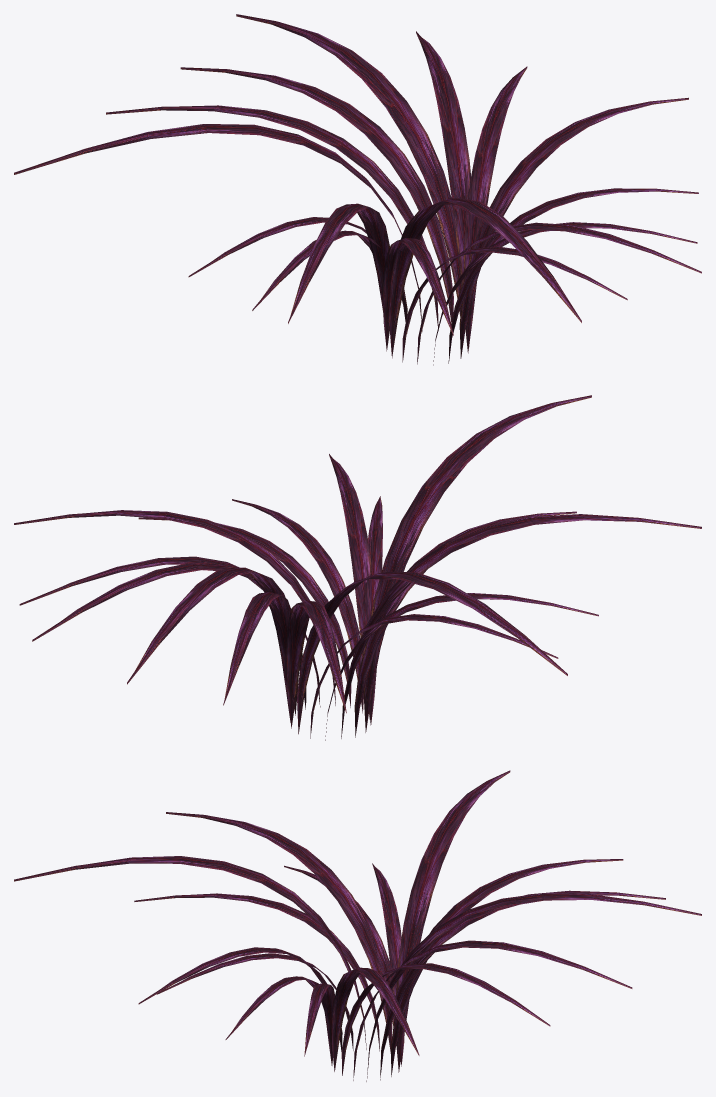
The model's file is finegrass_meadow_03.glb.
The picture shows the model from 3 angles, top to bottom: view 1: azimuth 30°, elevation 25°; view 2: azimuth 150°, elevation 25°; view 3: azimuth 270°, elevation 25°; orthographic projection. The views are drawn at different scales.
Parts seen in each view (by area): view 1: export; view 2: export; view 3: export.
Boxes of the visible parts, left/top/right/bottom form: export: left=14, top=14, right=701, bottom=365; export: left=14, top=395, right=701, bottom=740; export: left=14, top=770, right=701, bottom=1081.
Bounding box in the file's own units: 1.38 × 0.4853 × 1.58.
Materials: 1 (1 with a texture image).
